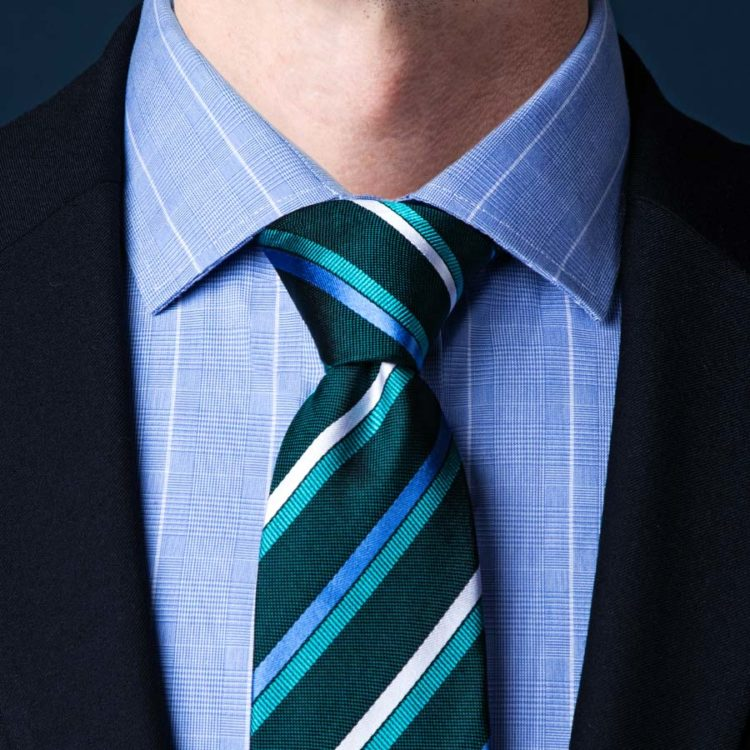tie: (238, 182, 523, 740)
